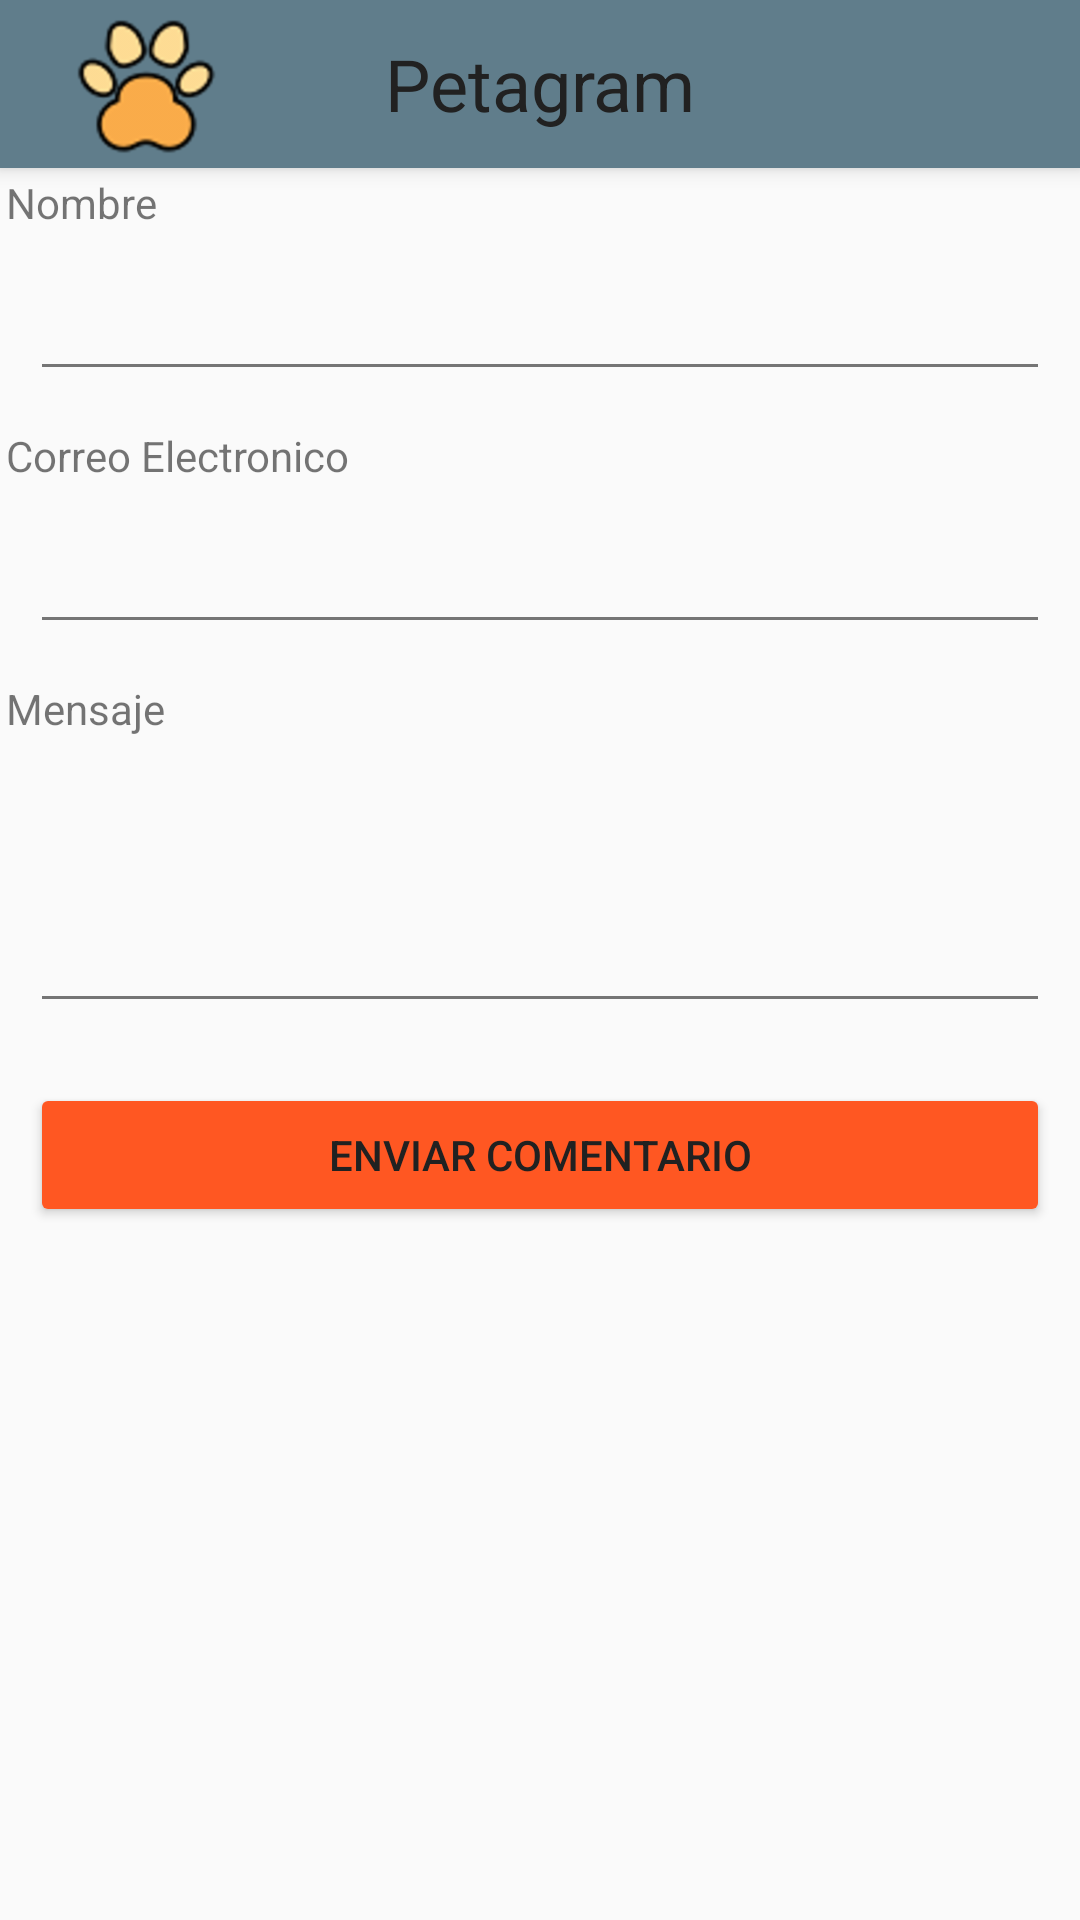

Icons on this 1080*1920 Android screen, each with its box as (x1, y1, x2, y2):
pet: (78, 20, 215, 153)
